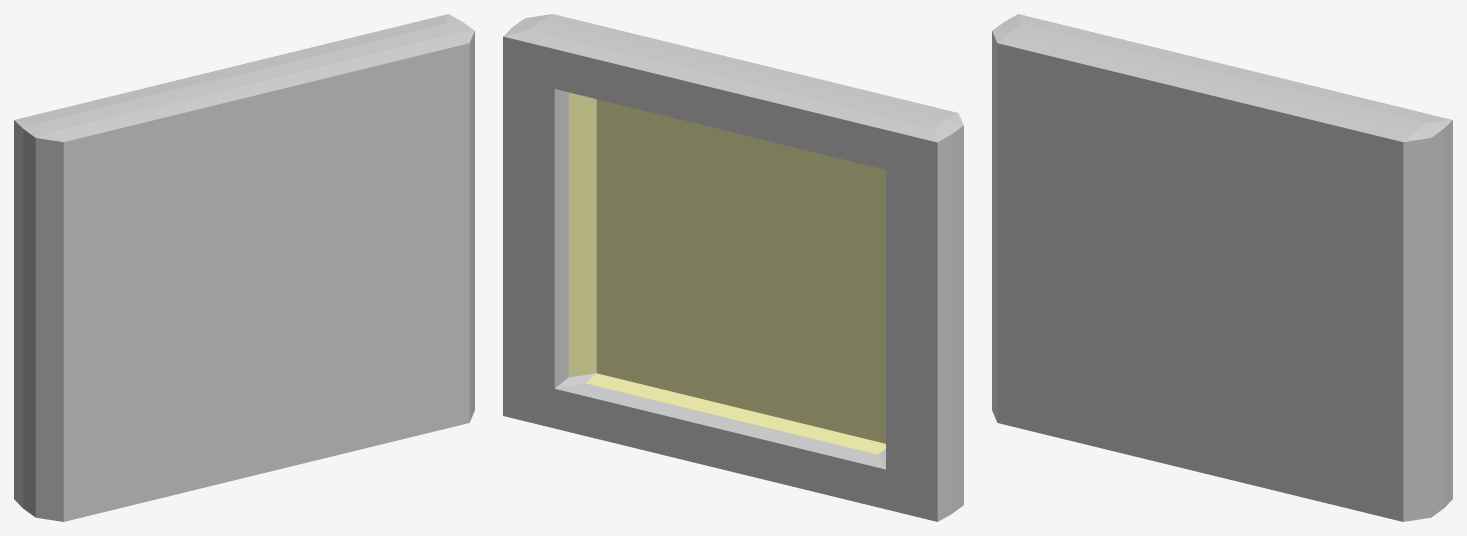
The model's file is Picture_2.fbx.
The picture shows the model from 3 angles, left to right: view 1: azimuth 30°, elevation 25°; view 2: azimuth 150°, elevation 25°; view 3: azimuth 330°, elevation 25°; orthographic projection.
Visible parts, largest first — view 1: Picture 2; view 2: Picture 2; view 3: Picture 2.
Boxes of the visible parts, x1=… form: Picture 2: x1=14, y1=14, x2=474, y2=521; Picture 2: x1=503, y1=14, x2=963, y2=521; Picture 2: x1=992, y1=14, x2=1452, y2=521.
Size of the model in its own units: 88.34 by 73.63 by 12.31.
